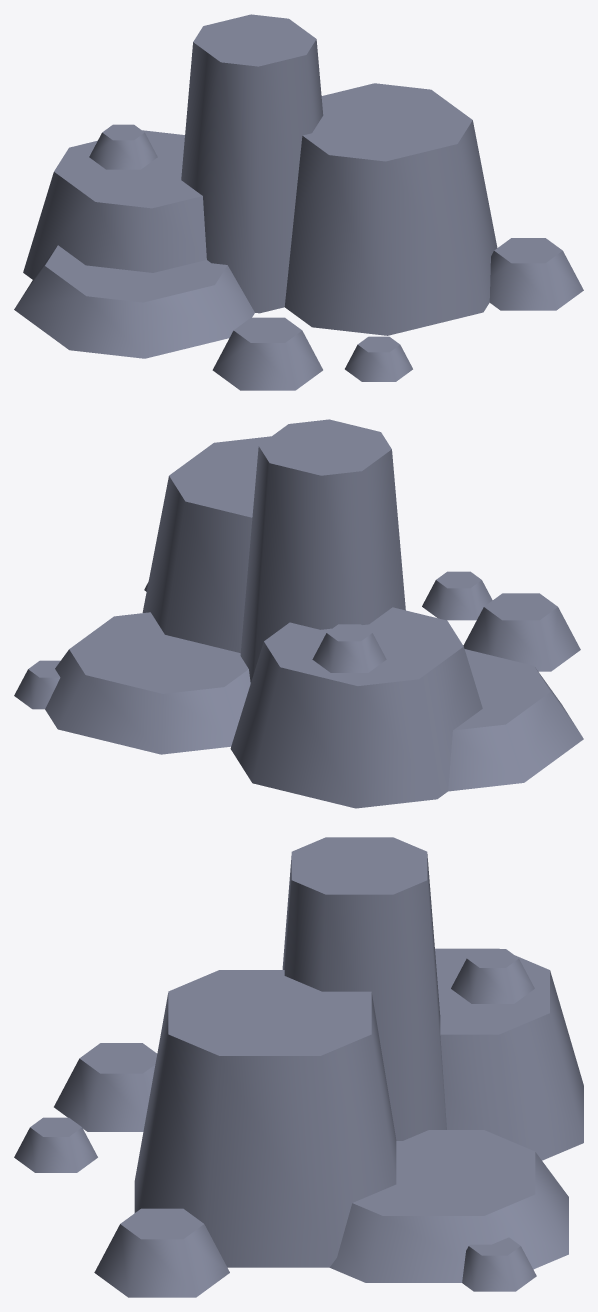
Rendered from stones.dae.
3 views of the same model, one above another, from view 1: azimuth 30°, elevation 25°; view 2: azimuth 150°, elevation 25°; view 3: azimuth 270°, elevation 25° (orthographic). The views are drawn at different scales.
Visible parts, largest first — view 1: stones; view 2: stones; view 3: stones.
Boxes of the visible parts, x1,y1,x2,y2 form: stones: (14,14,583,390); stones: (14,419,583,808); stones: (14,837,583,1297).
Size of the model in its own units: 0.8924 by 0.4539 by 0.8045.
